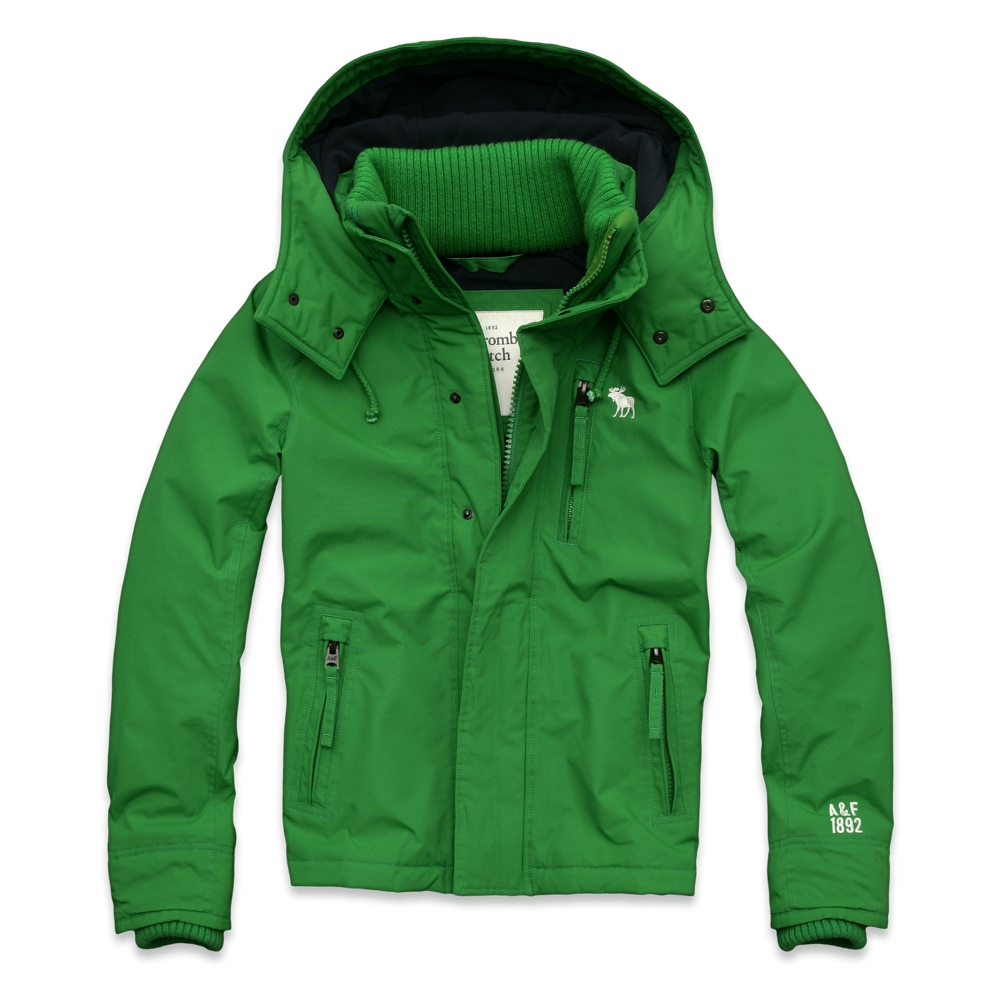flexible: (86, 37, 924, 950)
